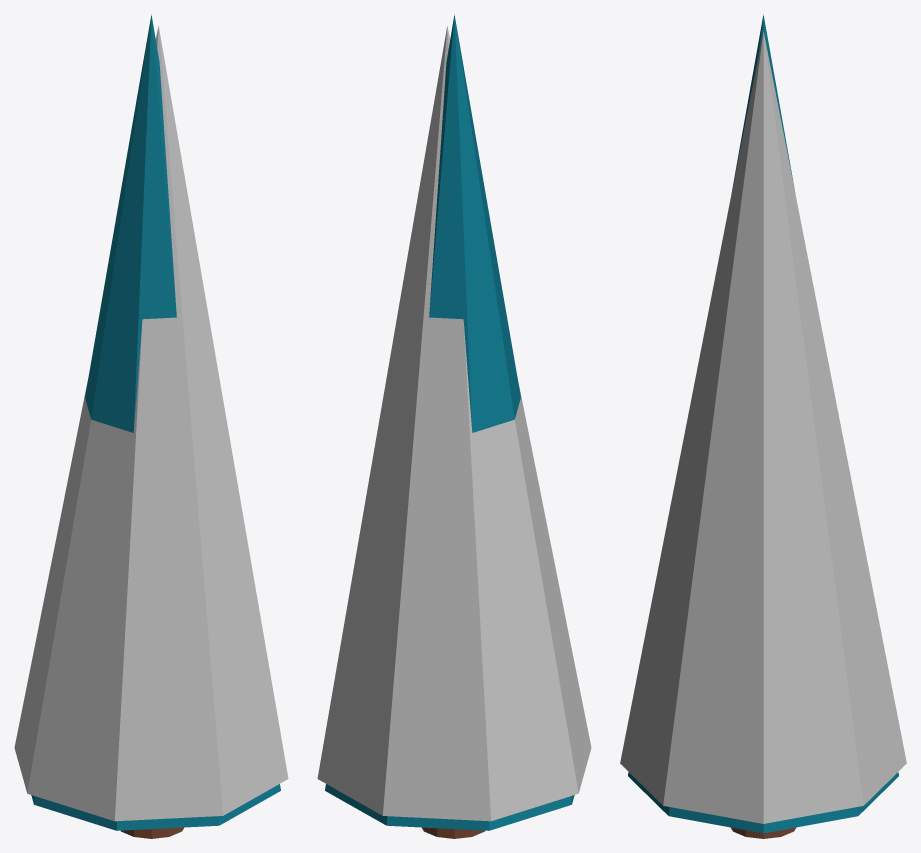
File: Tree_24_winter_blue_mat.fbx
3 renders of one model, left to right at view 1: azimuth 30°, elevation 25°; view 2: azimuth 150°, elevation 25°; view 3: azimuth 270°, elevation 25°, orthographic.
Parts seen in each view (by area): view 1: Tree_24_winter_blue_mat; view 2: Tree_24_winter_blue_mat; view 3: Tree_24_winter_blue_mat.
Boxes of the visible parts, <box> form: Tree_24_winter_blue_mat: <box>14,14,288,838</box>; Tree_24_winter_blue_mat: <box>317,14,591,838</box>; Tree_24_winter_blue_mat: <box>620,14,906,838</box>.
Size of the model in its own units: 90.22 by 281 by 90.22.
